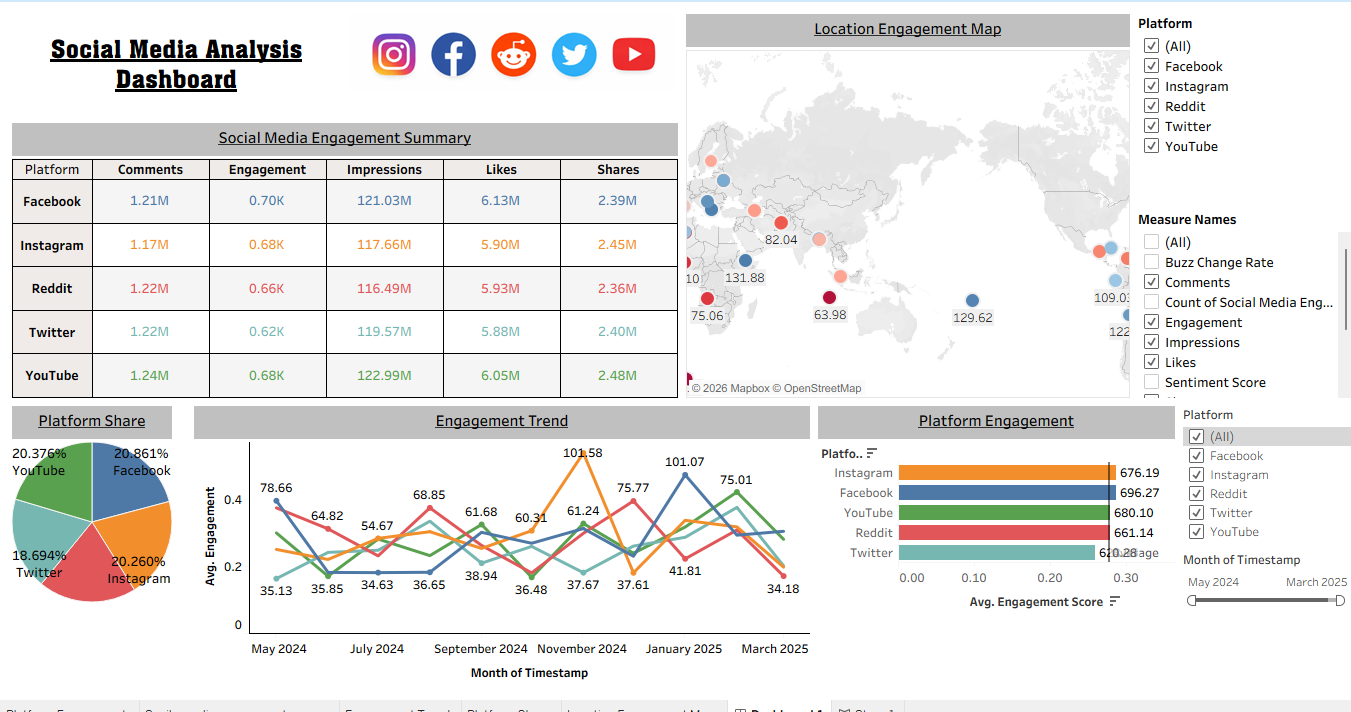

This screenshot's page, from the dashboard's own definition file:
{"tool":"tableau","page":{"name":"Dashboard 1","canvas":[1000,1000],"units":"permille","ordinal":0},"visuals":[{"type":"title","box":[6,13.2,330.2,180.2]},{"type":"image","param":"Image/Screenshot 2026-03-15 021511.png","box":[336.2,13.2,330.2,180.2]},{"type":"worksheet","title":"Location Engagement Map","mark":"Circle","box":[666.4,13.2,327.7,560.3]},{"type":"worksheet","title":"Socila media engagement summary","mark":"Automatic","rows":["platform"],"box":[6,193.4,660.4,380.1]},{"type":"worksheet","title":"Platform Share","mark":"Pie","box":[6,573.5,133.5,413.2]},{"type":"worksheet","title":"Engagement Trend","mark":"Automatic","rows":["engagement_rate"],"cols":["timestamp"],"box":[139.5,573.5,456.7,413.2]},{"type":"worksheet","title":"Platform Engagement","mark":"Automatic","rows":["platform"],"cols":["engagement_rate"],"box":[596.2,573.5,397.8,413.2]}]}

Visuals, with their boxes on the dashboard's canvas, which has no fixed pixel size, in thousandths of its width and height (x1, y1, x2, y2). These are canvas units, not pixel positions in the 1351x712 screenshot, which may show the page scaled, cropped or inside an application window:
title: l=6, t=13, r=336, b=193
image: l=336, t=13, r=666, b=193
"Location Engagement Map" worksheet (Circle marks): l=666, t=13, r=994, b=574
"Socila media engagement summary" worksheet: l=6, t=193, r=666, b=574
"Platform Share" worksheet (Pie marks): l=6, t=574, r=140, b=987
"Engagement Trend" worksheet: l=140, t=574, r=596, b=987
"Platform Engagement" worksheet: l=596, t=574, r=994, b=987
